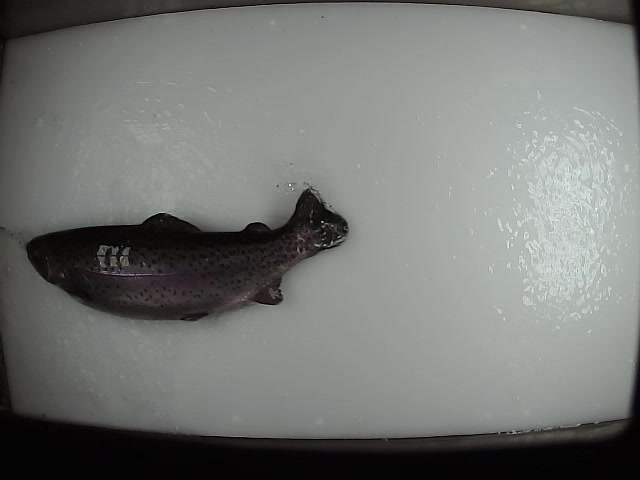fish: (25, 184, 352, 325)
